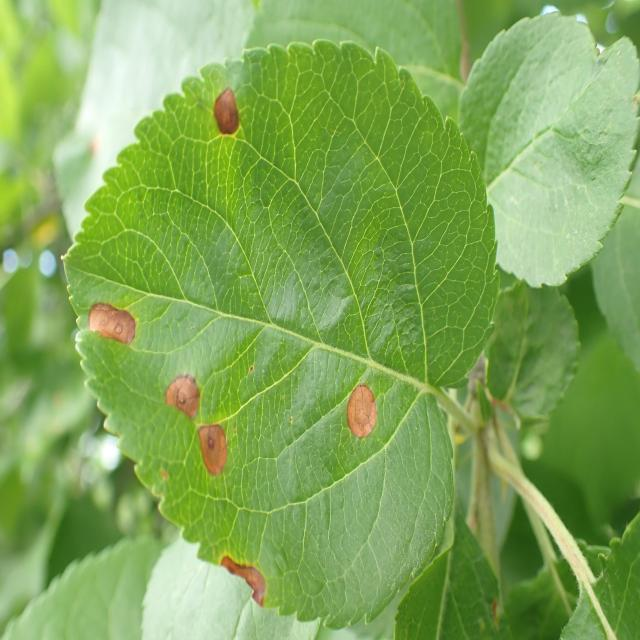frog-eye-leaf-spot: (61, 37, 499, 627)
